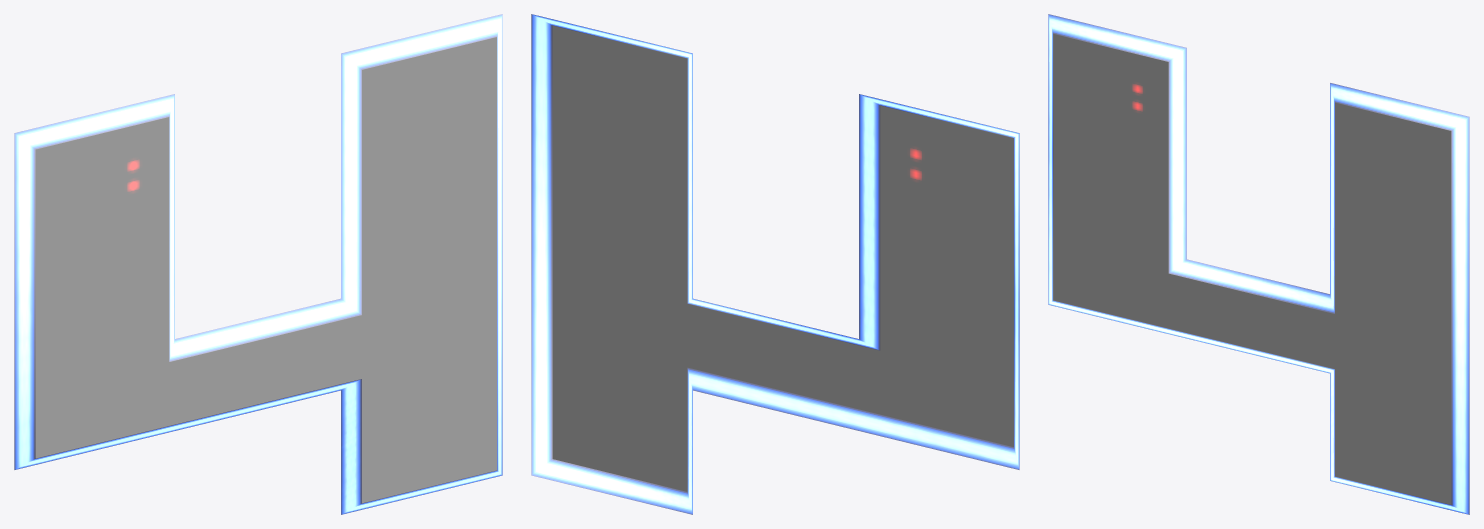
3 views of the same model, side by side, from view 1: azimuth 30°, elevation 25°; view 2: azimuth 150°, elevation 25°; view 3: azimuth 330°, elevation 25° (orthographic). The views are drawn at different scales.
Visible parts, largest first — view 1: LT_4; view 2: LT_4; view 3: LT_4.
Boxes of the visible parts, x1,y1,x2,y2 form: LT_4: (14, 14, 502, 514); LT_4: (531, 14, 1019, 514); LT_4: (1048, 14, 1469, 514).
Bounding box in the file's own units: 0.2539 × 0.2293 × 0.007.
